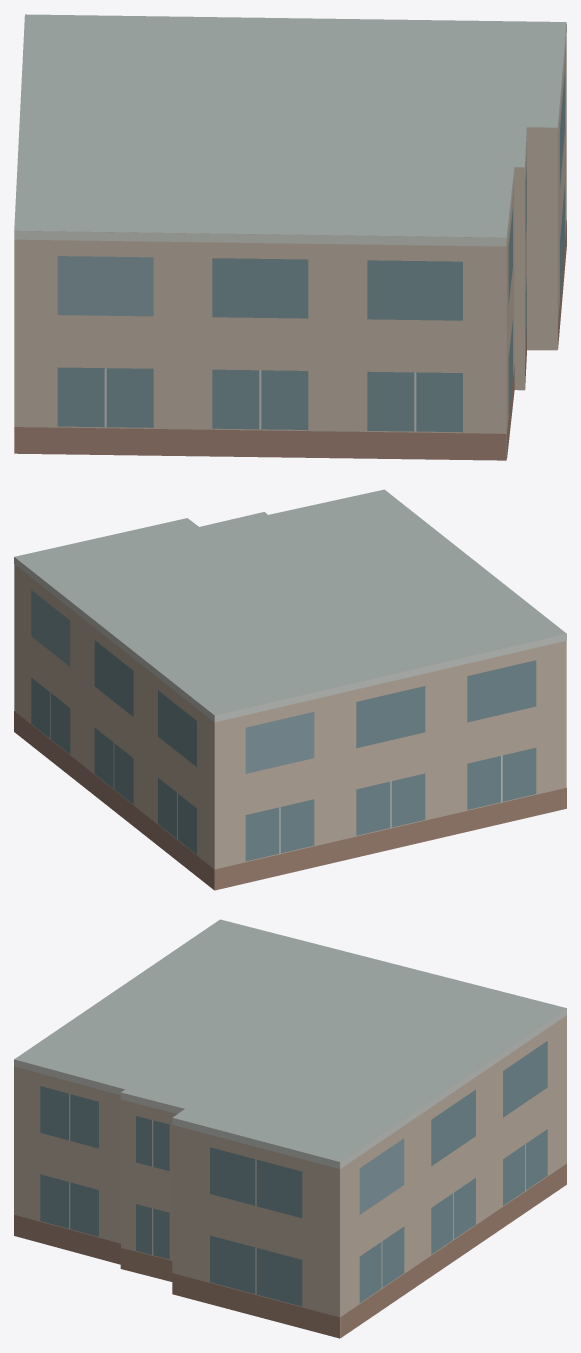
The model's file is survey-upis-32707433.glb.
3 views of the same model, one above another, from view 1: azimuth 30°, elevation 25°; view 2: azimuth 150°, elevation 25°; view 3: azimuth 270°, elevation 25° (orthographic). The views are drawn at different scales.
Parts seen in each view (by area): view 1: survey-upis-32707433.tmp; view 2: survey-upis-32707433.tmp; view 3: survey-upis-32707433.tmp.
Boxes of the visible parts, x1,y1,x2,y2 form: survey-upis-32707433.tmp: (14,14,566,460); survey-upis-32707433.tmp: (14,489,566,890); survey-upis-32707433.tmp: (14,919,566,1338).
Bounding box in the file's own units: 18 × 6.1 × 17.33.
